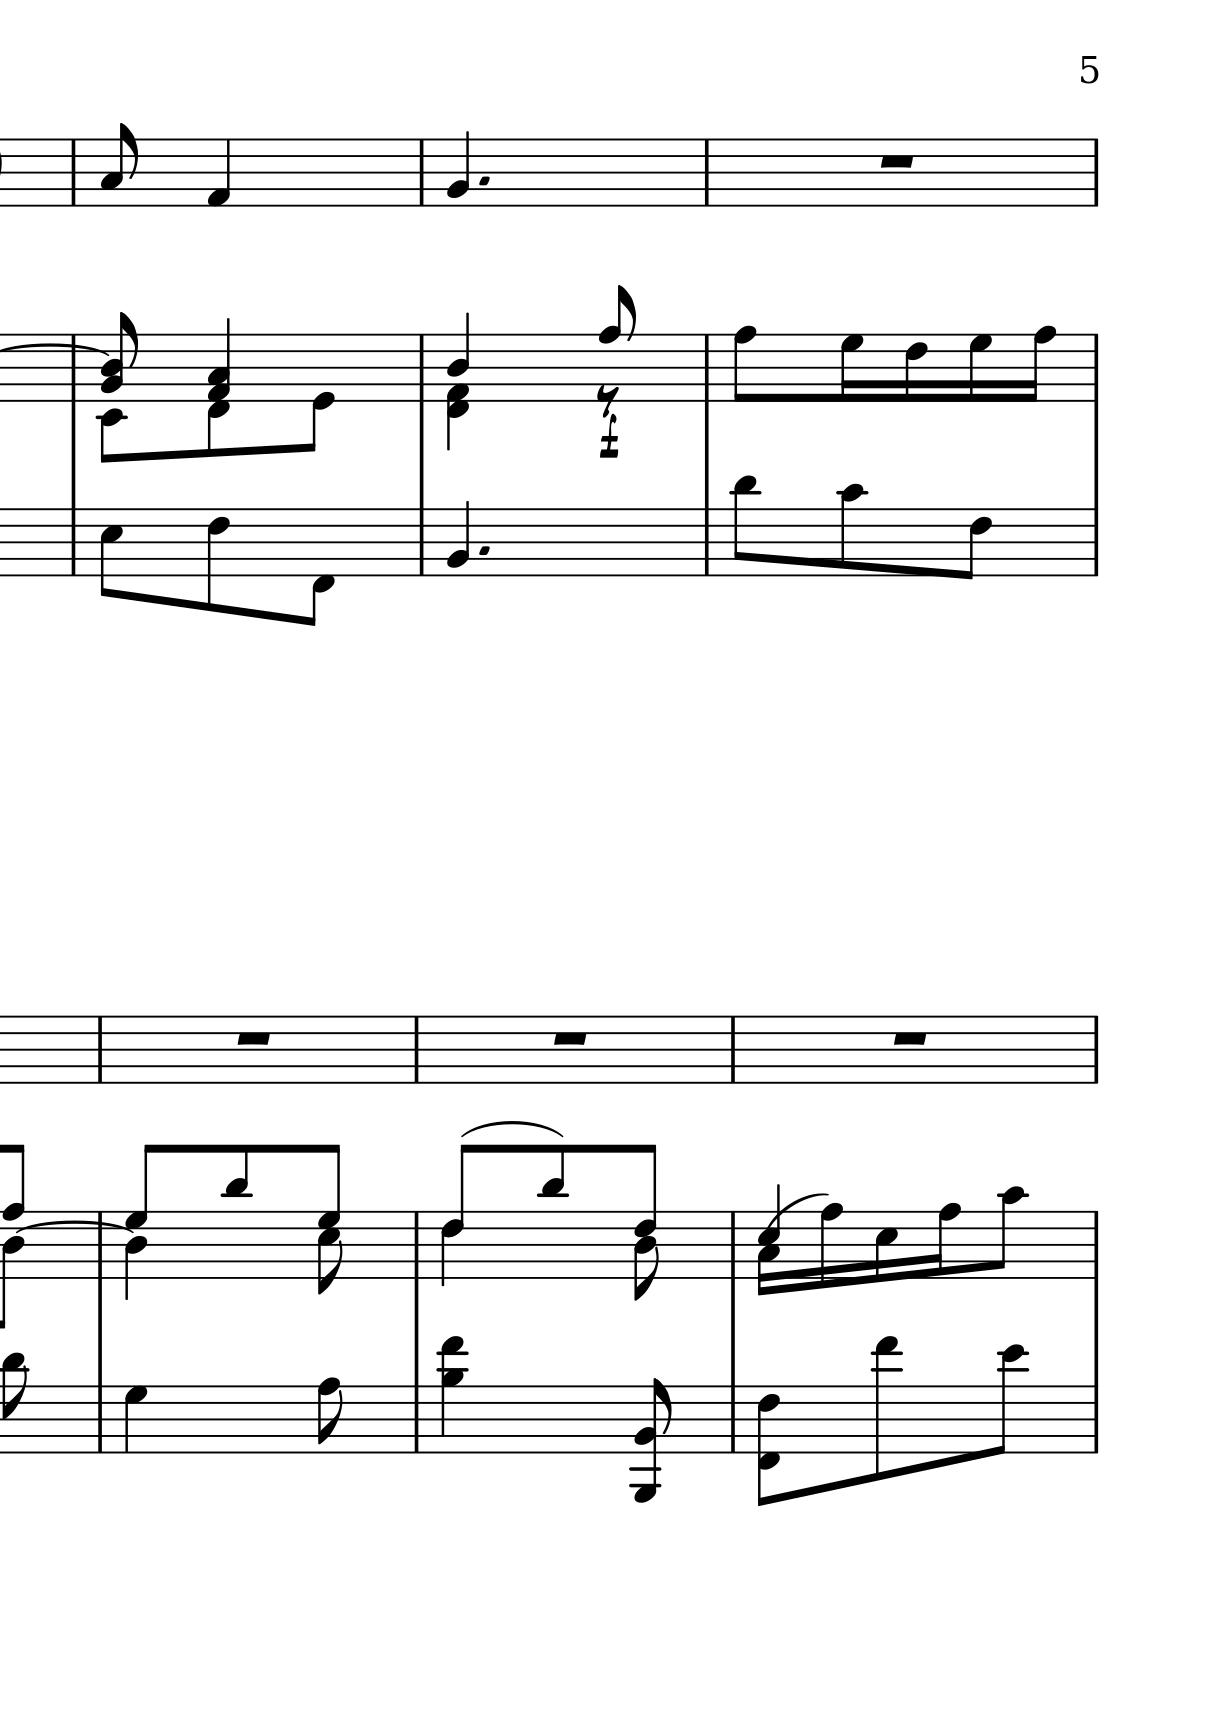16_5: (872, 1209, 898, 1285)
16_6: (903, 331, 928, 404)
16_7: (838, 332, 864, 406), (966, 332, 992, 404)
16_8: (924, 1201, 960, 1280), (1021, 324, 1055, 404), (818, 1201, 843, 1291)
4_1: (203, 137, 231, 209)
4_2: (445, 129, 471, 209), (445, 499, 471, 579)
4_7: (123, 1385, 150, 1455)
4_9_13: (438, 1335, 469, 1453)
5: (1078, 53, 1099, 87)
8_-1: (302, 505, 335, 628)
8_-1_6: (757, 1383, 781, 1509)
8_-5_2: (630, 1376, 673, 1505)
8_10: (991, 1186, 1027, 1279), (835, 483, 866, 578)
8_11: (536, 1144, 570, 1283), (221, 1142, 253, 1281), (730, 475, 760, 578), (1, 1351, 28, 1457)
8_12: (986, 1342, 1027, 1457)
8_13: (870, 1335, 901, 1484)
8_3: (98, 122, 138, 207)
8_4_6: (633, 1142, 662, 1304)
8_5: (97, 505, 122, 600)
8_5_7: (316, 1144, 344, 1295)
8_6: (205, 505, 230, 614), (957, 505, 992, 582)
8_8: (597, 284, 634, 403), (314, 1376, 343, 1456), (731, 324, 757, 404)
Rests1: (232, 1027, 274, 1049), (889, 1027, 931, 1049), (549, 1028, 589, 1049), (876, 151, 918, 171)
Rests8: (593, 383, 620, 415)
Single_barline: (91, 1212, 112, 1279), (407, 1385, 427, 1453), (407, 1212, 427, 1277), (723, 1212, 743, 1277), (698, 333, 717, 400), (697, 509, 715, 576), (1086, 509, 1104, 576), (1086, 1016, 1104, 1083), (412, 140, 431, 206), (412, 509, 431, 575), (91, 1386, 109, 1452), (697, 140, 715, 205), (66, 333, 83, 402), (1087, 333, 1104, 402), (1087, 1211, 1104, 1279), (725, 1385, 742, 1453), (1087, 139, 1104, 206), (64, 509, 81, 576), (91, 1016, 108, 1083), (1087, 1386, 1104, 1453), (414, 336, 431, 400), (725, 1018, 740, 1083), (408, 1018, 424, 1082), (66, 140, 81, 204)
Slur: (761, 1190, 828, 1226), (458, 1119, 564, 1138)
dot: (475, 544, 491, 558), (475, 175, 492, 188)
f: (597, 412, 620, 460)
